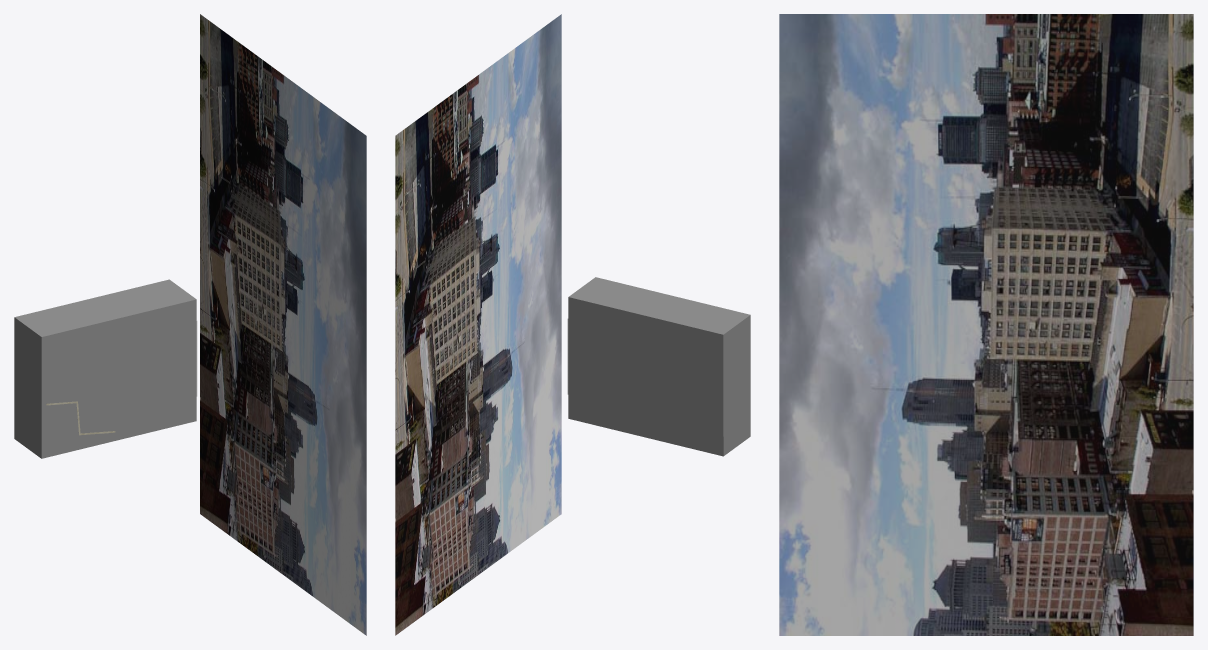
The model's file is gallery.DAE.
3 renders of one model, left to right at view 1: azimuth 30°, elevation 25°; view 2: azimuth 150°, elevation 25°; view 3: azimuth 270°, elevation 25°, orthographic. The views are drawn at different scales.
Parts seen in each view (by area): view 1: background_plane_PIVOT, Box01; view 2: background_plane_PIVOT, Box01; view 3: background_plane_PIVOT.
Part boxes in pixels (x1,y1,x2,y2): background_plane_PIVOT: (200, 14, 366, 635); Box01: (14, 279, 196, 458); background_plane_PIVOT: (395, 14, 561, 635); Box01: (568, 277, 750, 456); background_plane_PIVOT: (779, 14, 1193, 635).
Size of the model in its own units: 163 by 183 by 303.
